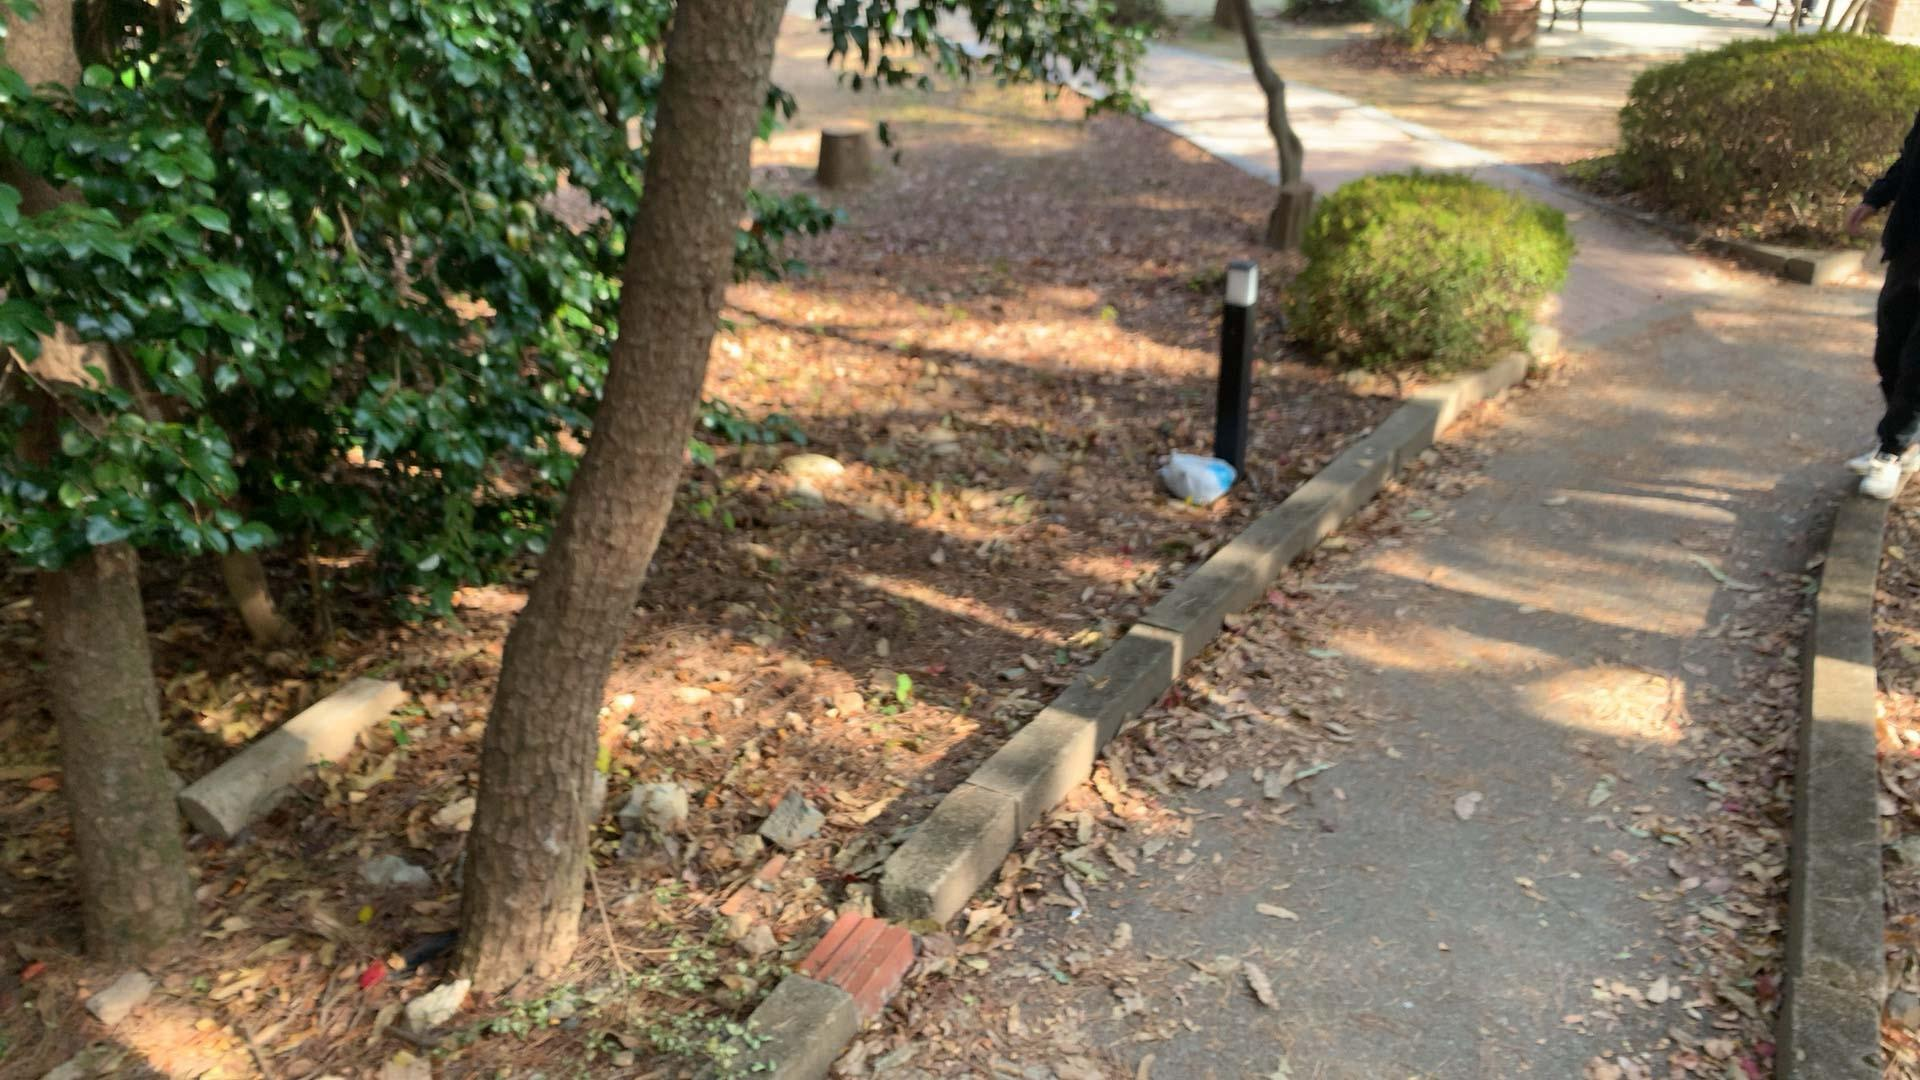white_bag: (1150, 448, 1237, 504)
